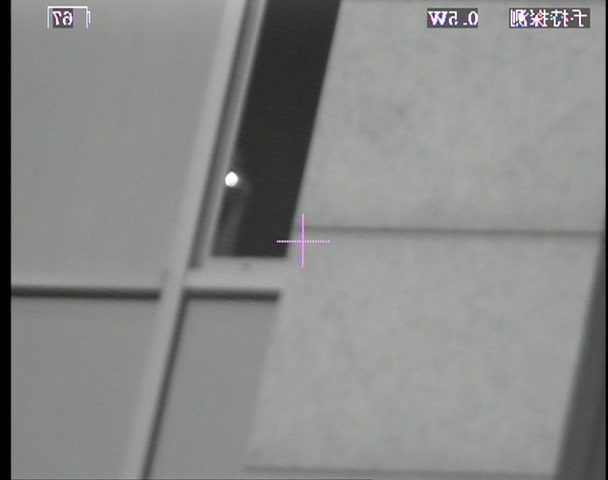my: (223, 169, 239, 188)
